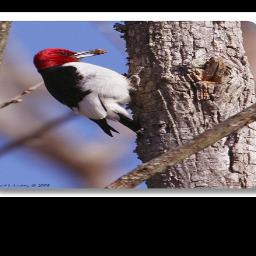Woodpecker: (32, 48, 146, 136)
